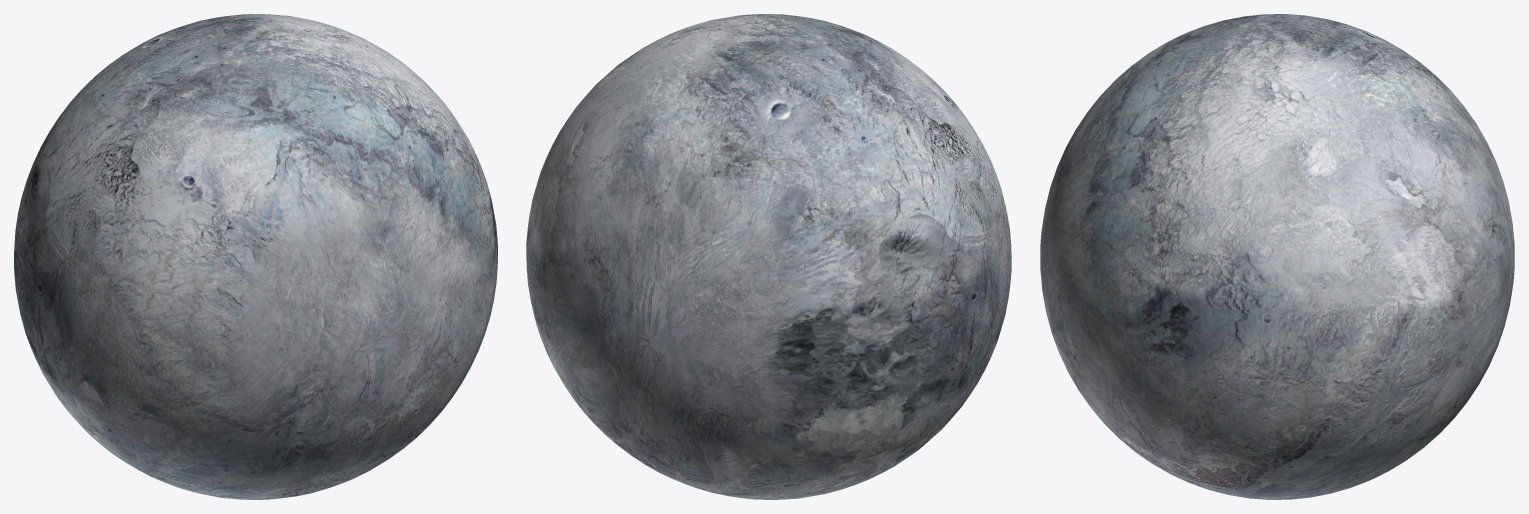
File: Eris.glb
3 renders of one model, left to right at view 1: azimuth 30°, elevation 25°; view 2: azimuth 150°, elevation 25°; view 3: azimuth 270°, elevation 25°, orthographic.
Visible parts, largest first — view 1: Uranus; view 2: Uranus; view 3: Uranus.
Boxes of the visible parts, x1,y1,x2,y2 form: Uranus: (14,14,497,499); Uranus: (526,14,1011,499); Uranus: (1040,14,1514,499).
Bounding box in the file's own units: 1.5 × 1.5 × 1.47.
Materials: 1 (1 with a texture image).
